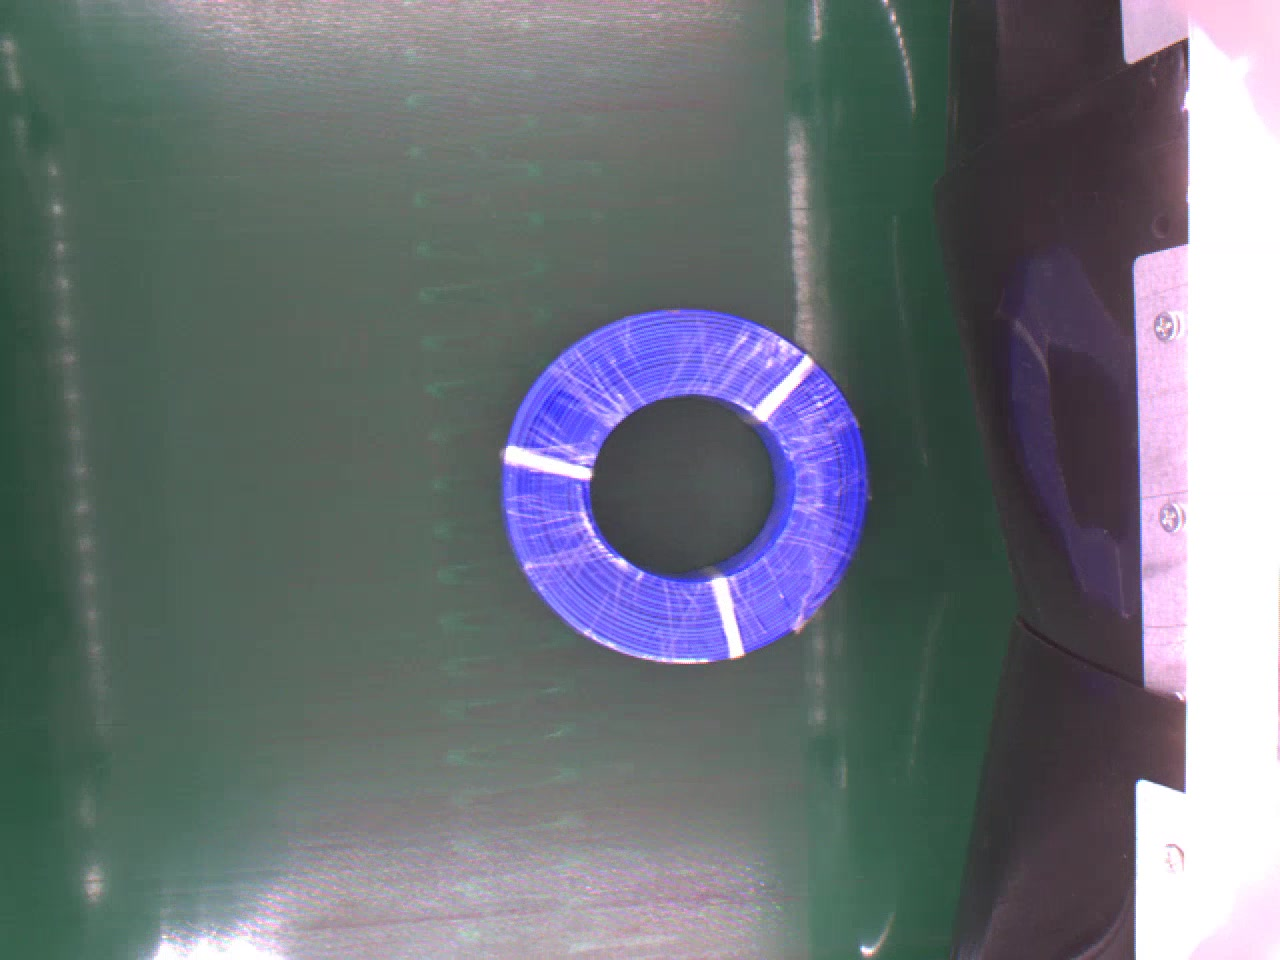blue: (500, 307, 868, 668)
